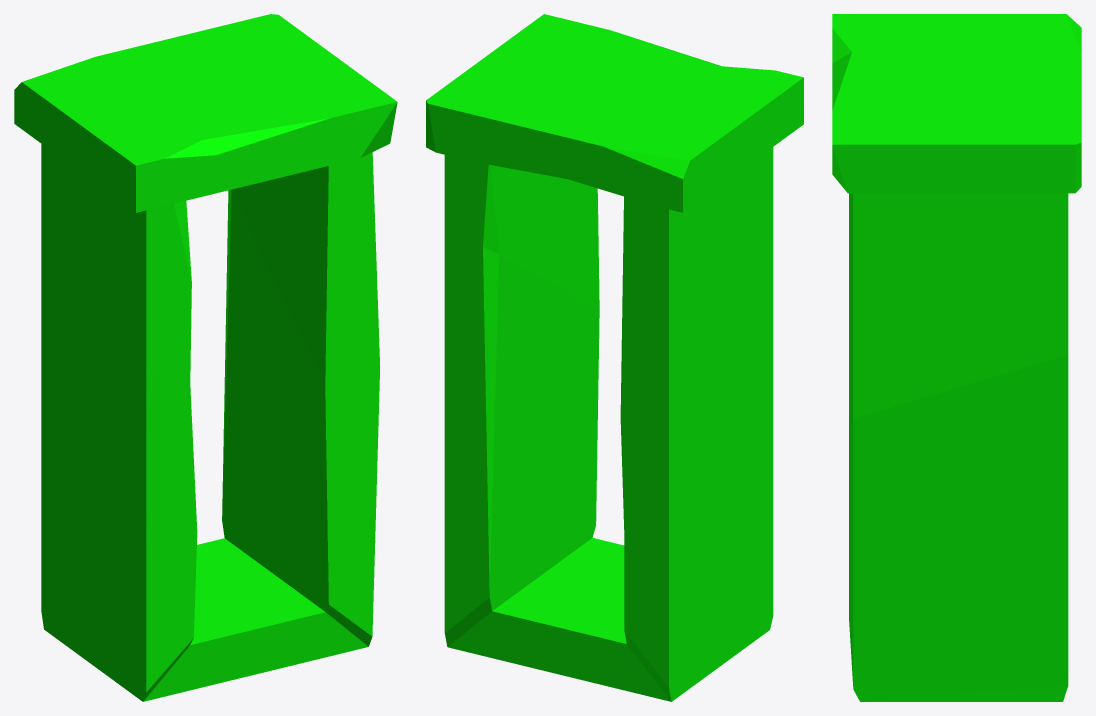
Rendered from SM_Window_Tiny_A_Fantasy.fbx.
3 renders of one model, left to right at view 1: azimuth 30°, elevation 25°; view 2: azimuth 150°, elevation 25°; view 3: azimuth 270°, elevation 25°, orthographic. The views are drawn at different scales.
Parts seen in each view (by area): view 1: window-tiny-a-fantasy; view 2: window-tiny-a-fantasy; view 3: window-tiny-a-fantasy.
Boxes of the visible parts, x1=… form: window-tiny-a-fantasy: x1=14, y1=14, x2=397, y2=701; window-tiny-a-fantasy: x1=426, y1=14, x2=803, y2=701; window-tiny-a-fantasy: x1=832, y1=14, x2=1081, y2=701.
Bounding box in the file's own units: 0.3476 × 0.7 × 0.2801.
